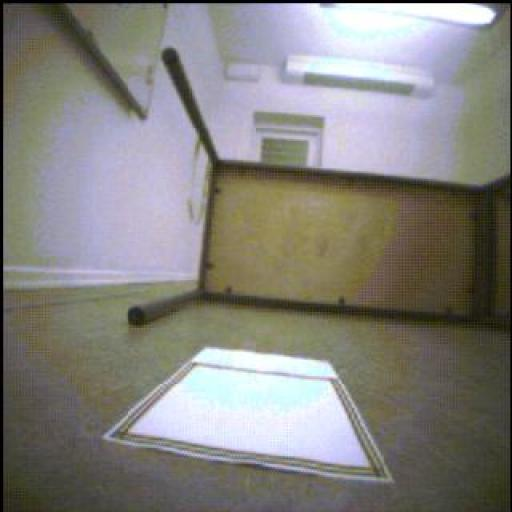Pad: (126, 338, 392, 483)
